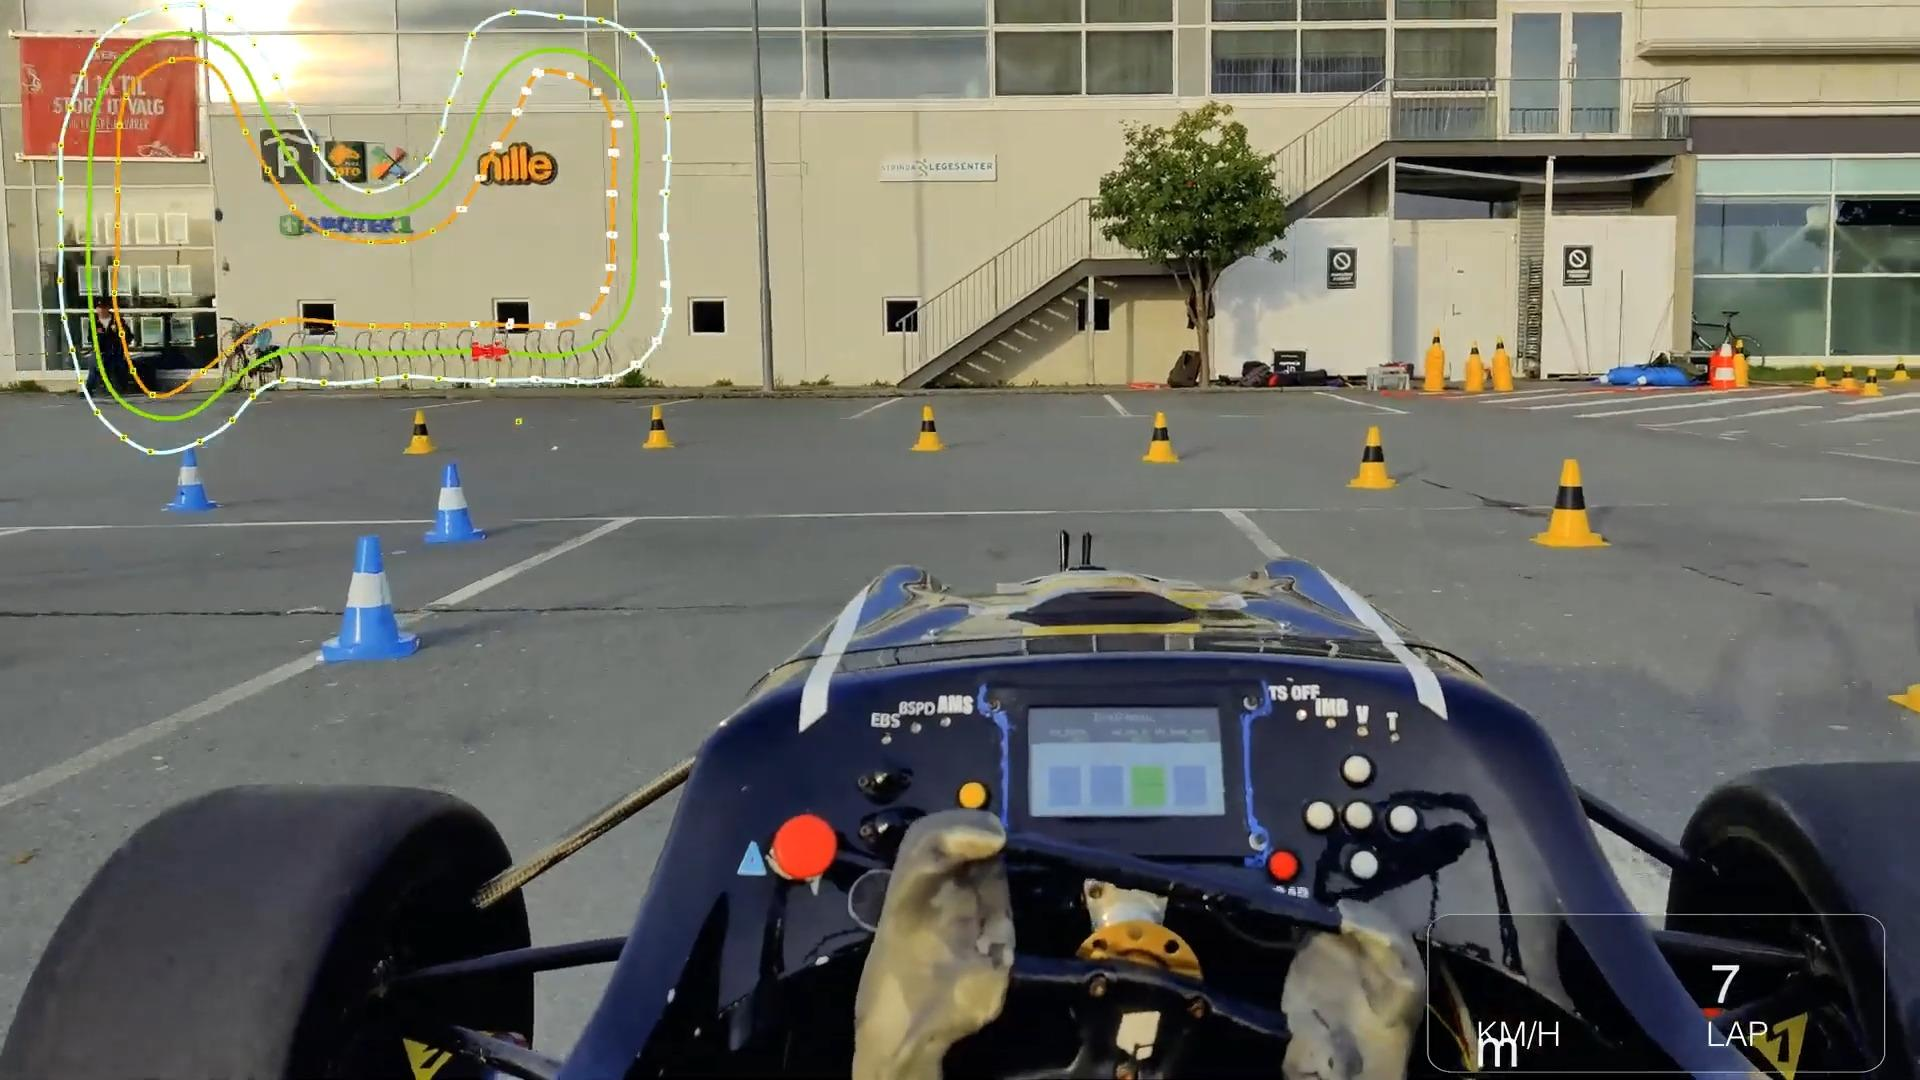blue_cone: (316, 531, 415, 667), (415, 465, 481, 542), (166, 444, 220, 518)
large_orange_cone: (1708, 340, 1737, 392)
yellow_cone: (1530, 454, 1611, 545), (1346, 423, 1400, 487), (1141, 410, 1184, 462), (642, 400, 679, 454), (402, 407, 442, 456), (907, 405, 945, 451), (1425, 322, 1447, 360), (1859, 369, 1884, 400), (1836, 364, 1859, 392), (1887, 357, 1909, 384), (1730, 338, 1750, 364), (1813, 363, 1832, 389), (1465, 338, 1486, 360), (1495, 335, 1510, 359)
